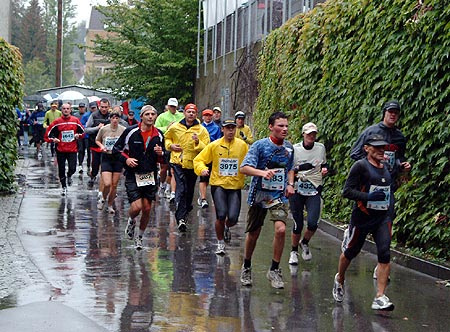person: (333, 135, 399, 315), (241, 111, 292, 293), (196, 119, 253, 256), (118, 100, 168, 250), (170, 103, 211, 231), (46, 100, 87, 193)
